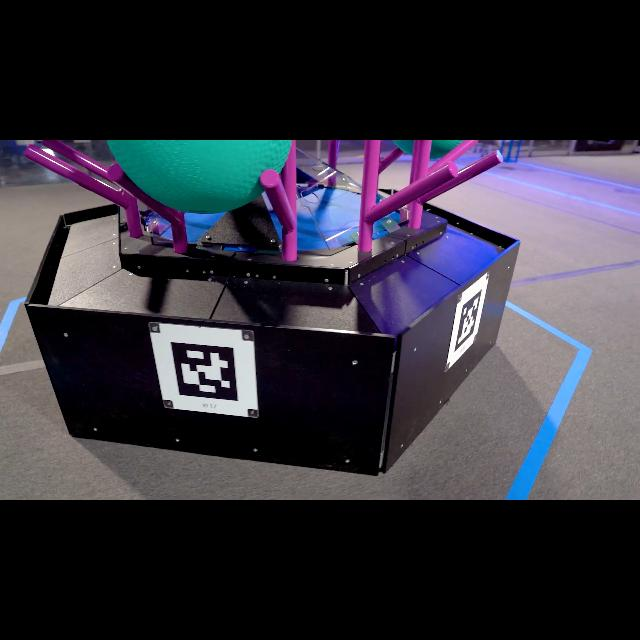ALGAE: (105, 140, 292, 214), (392, 140, 464, 160)
